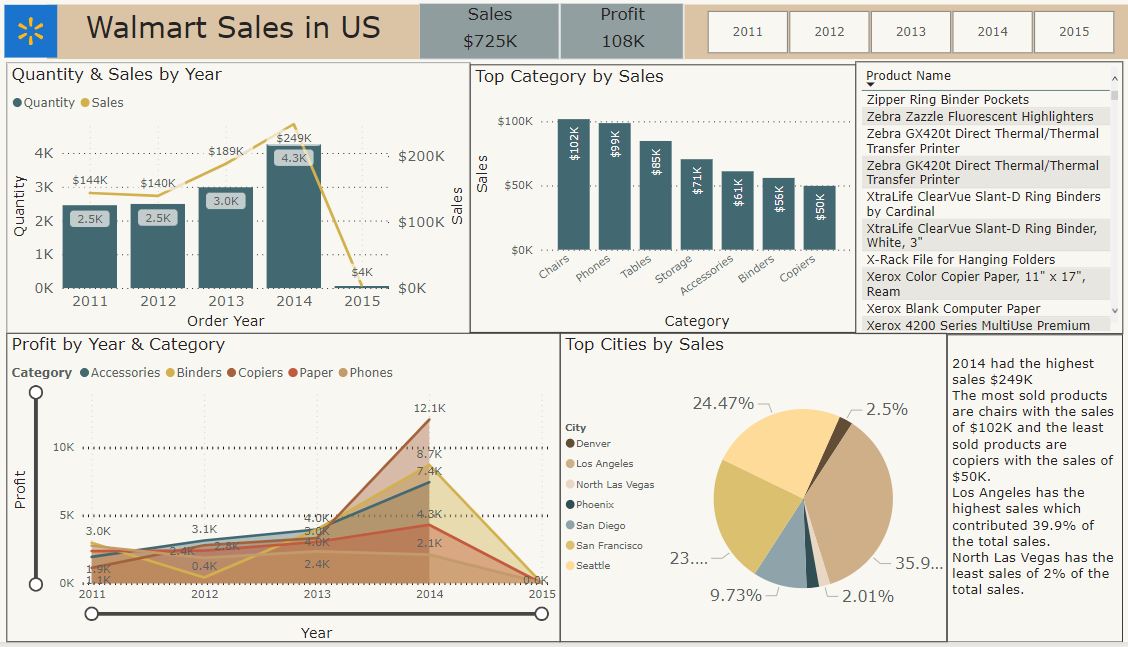

This screenshot's page, from the dashboard's own definition file:
{"tool":"powerbi","page":{"name":"Page 1","canvas":[1280,720],"ordinal":0},"visuals":[{"type":"lineClusteredColumnComboChart","title":"Quantity & Sales by Year ","fields":{"Category":["Walmart.Order Year "],"Y2":["Sum(Walmart.Sales)"],"Y":["Sum(Walmart.Quantity)"]},"box":[25,76.5,515.4,299.9],"z":0},{"type":"slicer","fields":{"Values":["Walmart.Order Year "]},"box":[777.8,10.9,501.3,60.9],"z":1000},{"type":"clusteredColumnChart","title":"Top Category by Sales","fields":{"Category":["Walmart.Category"],"Y":["Sum(Walmart.Sales)"]},"box":[540.4,78.1,429.5,298.3],"z":2000},{"type":"pieChart","title":"Top Cities by Sales","fields":{"Y":["Sum(Walmart.Sales)"],"Series":["Walmart.City"]},"box":[640,376.7,430,343.3],"z":3000},{"type":"areaChart","title":"Profit by Year & Category","fields":{"Series":["Walmart.Category"],"Category":["Walmart.Order Year "],"Y":["Sum(Walmart.Profit)"]},"box":[25,376.7,615,343.3],"z":4000},{"type":"tableEx","fields":{"Values":["Walmart.Product Name"]},"box":[968.6,75.7,297.1,302.9],"z":5000},{"type":"card","title":"Sales","fields":{"Values":["Sum(Walmart.Sales)"]},"box":[484.2,9.4,156.2,62.5],"z":6000},{"type":"textbox","box":[70.3,10.9,413.9,60.9],"z":6500},{"type":"card","title":"Profit","fields":{"Values":["Sum(Walmart.Profit)"]},"box":[640.3,9.4,137.4,62.5],"z":7000},{"type":"image","box":[0,6.2,104.6,68.7],"z":9000},{"type":"textbox","box":[1070,378.3,195,341.7],"z":9002}]}

Visuals, with their boxes in screenshot pixels (x1, y1, x2, y2), scaled from the page's 1280x720 canvas onto the 1128x647 screenshot:
"Quantity & Sales by Year " lineClusteredColumnComboChart: rect(22, 69, 476, 338)
slicer - Walmart.Order Year : rect(685, 10, 1127, 65)
"Top Category by Sales" clusteredColumnChart: rect(476, 70, 855, 338)
"Top Cities by Sales" pieChart: rect(564, 339, 943, 646)
"Profit by Year & Category" areaChart: rect(22, 339, 564, 646)
tableEx - Walmart.Product Name: rect(854, 68, 1115, 340)
"Sales" card: rect(427, 8, 564, 65)
textbox: rect(62, 10, 427, 65)
"Profit" card: rect(564, 8, 685, 65)
image: rect(0, 6, 92, 67)
textbox: rect(943, 340, 1115, 646)
